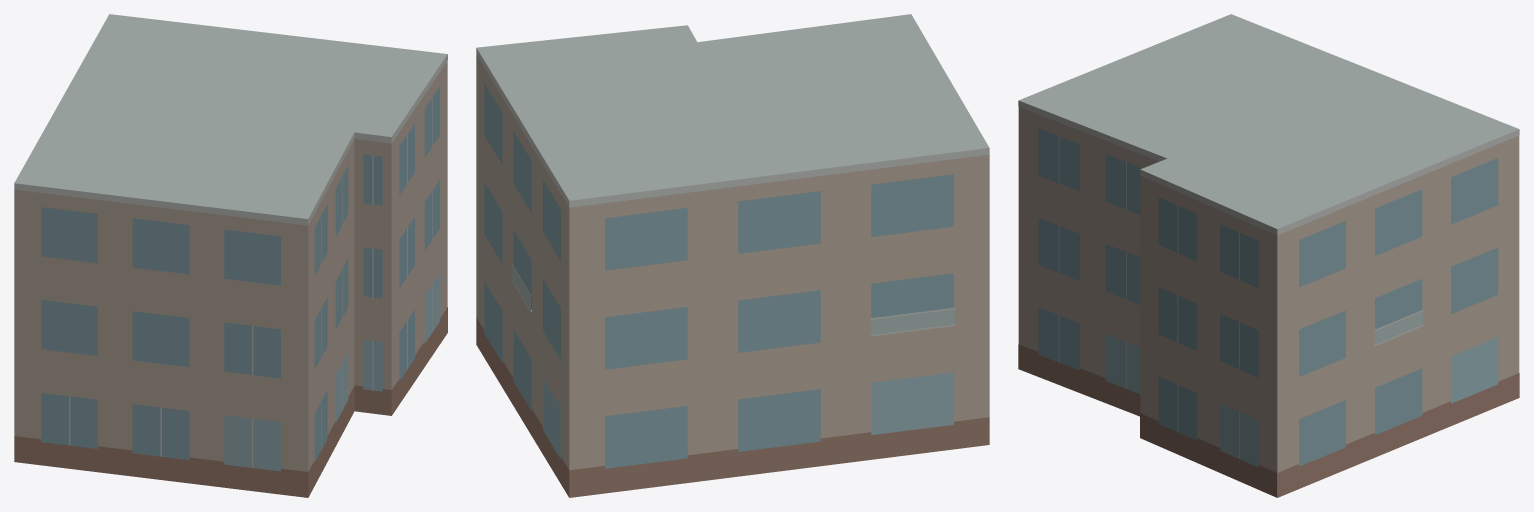
File: survey-upis-32994324.glb
3 views of the same model, side by side, from view 1: azimuth 30°, elevation 25°; view 2: azimuth 150°, elevation 25°; view 3: azimuth 270°, elevation 25° (orthographic). The views are drawn at different scales.
Parts seen in each view (by area): view 1: survey-upis-32994324.tmp; view 2: survey-upis-32994324.tmp; view 3: survey-upis-32994324.tmp.
Boxes of the visible parts, x1,y1,x2,y2 form: survey-upis-32994324.tmp: (14, 14, 447, 497); survey-upis-32994324.tmp: (476, 14, 989, 497); survey-upis-32994324.tmp: (1018, 14, 1519, 497).
Size of the model in its own units: 18.22 by 10.6 by 17.92.
